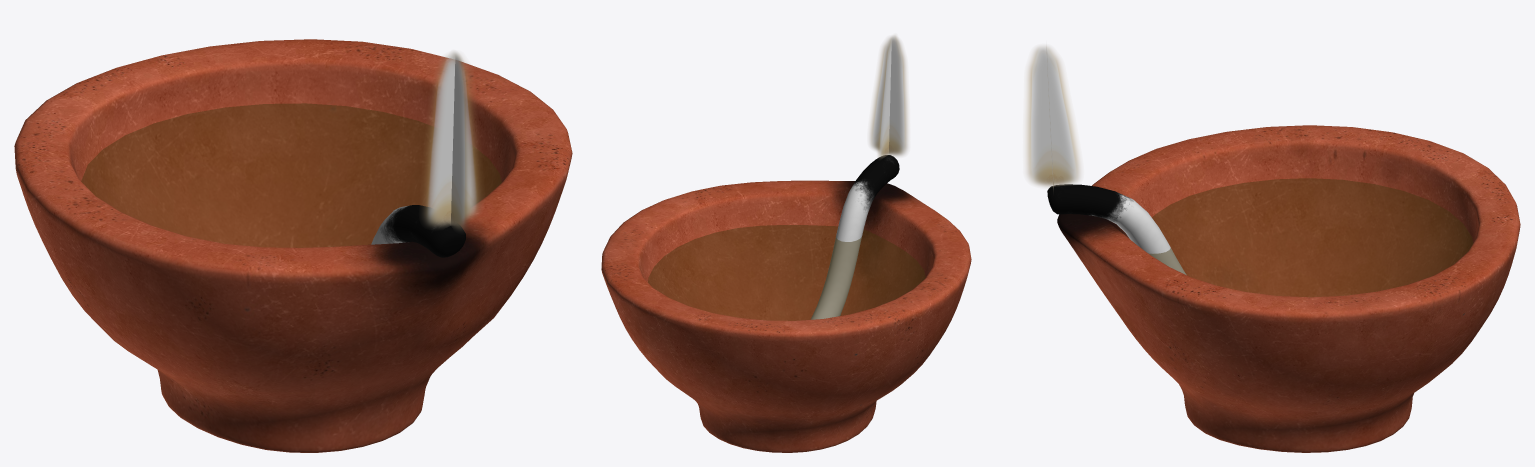
File: oil_lamp.glb
3 renders of one model, left to right at view 1: azimuth 30°, elevation 25°; view 2: azimuth 150°, elevation 25°; view 3: azimuth 270°, elevation 25°, orthographic. The views are drawn at different scales.
Visible parts, largest first — view 1: CLamp_LP, CLamp_oil, Flame3, wire1; view 2: CLamp_LP, CLamp_oil, wire1, Flame3; view 3: CLamp_LP, CLamp_oil, Flame3, wire1.
Part boxes in pixels (x1=…): CLamp_LP: x1=14, y1=39, x2=572, y2=452; CLamp_oil: x1=81, y1=103, x2=501, y2=247; Flame3: x1=422, y1=51, x2=480, y2=231; wire1: x1=371, y1=205, x2=465, y2=257; CLamp_LP: x1=601, y1=180, x2=971, y2=452; CLamp_oil: x1=648, y1=225, x2=925, y2=320; wire1: x1=810, y1=155, x2=899, y2=319; Flame3: x1=869, y1=35, x2=907, y2=158; CLamp_LP: x1=1057, y1=125, x2=1520, y2=452; CLamp_oil: x1=1150, y1=178, x2=1472, y2=296; Flame3: x1=1026, y1=45, x2=1080, y2=190; wire1: x1=1047, y1=184, x2=1186, y2=274.
Bounding box in the file's own units: 1.62 × 1.53 × 1.89.
Materials: 3 (3 with a texture image).
